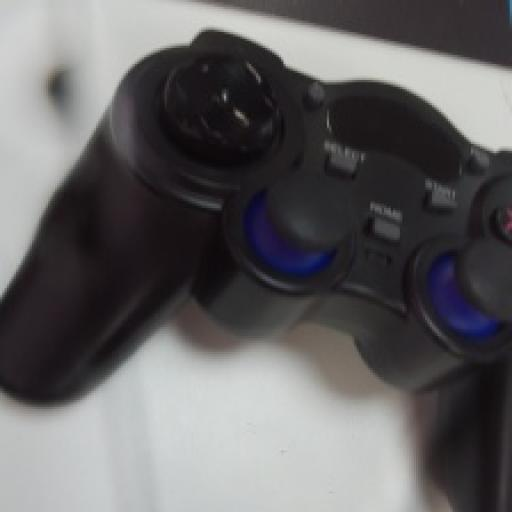game pad: (0, 30, 510, 510)
